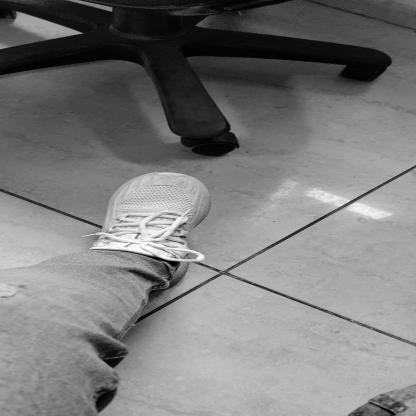ankle: (175, 260, 179, 263)
heel: (170, 280, 177, 283)
left_foot: (91, 173, 213, 286)
pinky: (126, 186, 133, 189)
toe: (198, 188, 206, 192)
